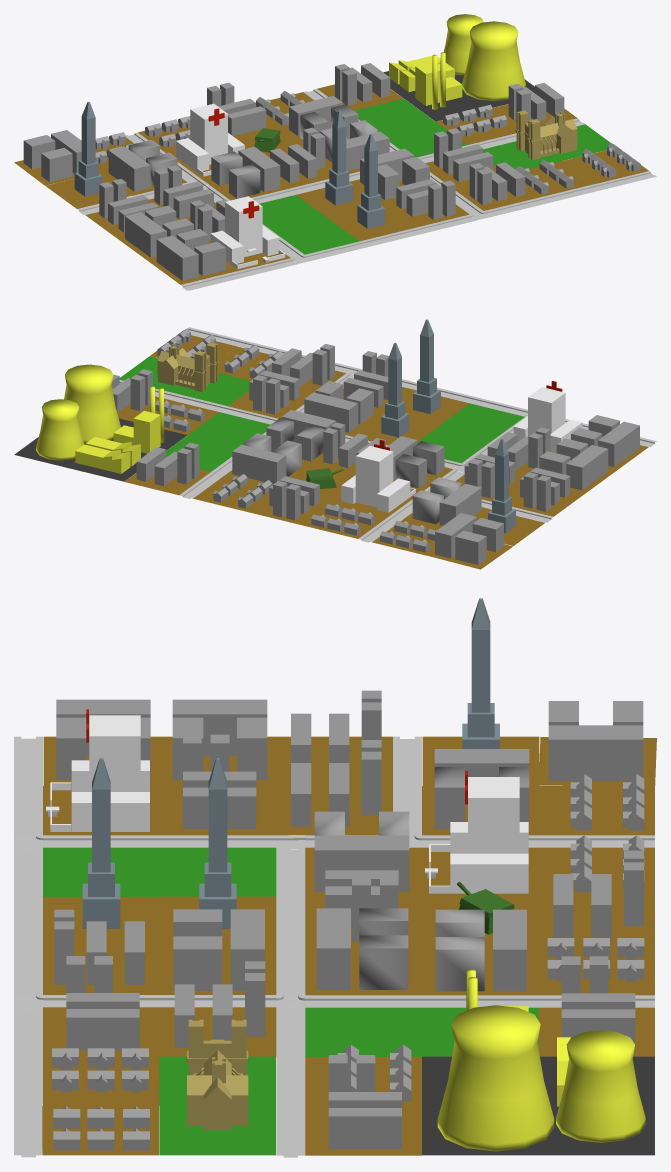
File: nivel2.fbx
3 renders of one model, top to bottom at view 1: azimuth 30°, elevation 25°; view 2: azimuth 150°, elevation 25°; view 3: azimuth 270°, elevation 25°, orthographic. The views are drawn at different scales.
Parts seen in each view (by area): view 1: Plane.041, Plane.044, Cube.001_Cube.000, Plane.039, Plane.020, Plane.009, Cube.001_Cube.002, Plane.033, Cube_Cube.002, Plane.059, Cube_Cube.003, Plane.022 (+30 smaller); view 2: Plane.041, Plane.044, Cube.001_Cube.002, Plane.059, Plane.039, Plane.024, Plane.033, Plane.032, Plane, Cube_Cube.002, Plane.021, Cube_Cube.003 (+28 smaller); view 3: Plane.041, Plane.044, Cube.001_Cube.002, Cube.001_Cube.000, Plane.043, Plane.039, Plane.024, Plane.034, Plane.059, Plane.023, Plane.046, Plane.033 (+43 smaller).
Boxes of the visible parts, x1,y1,x2,y2 form: Plane.041: (383, 14, 534, 121); Plane.044: (483, 110, 610, 168); Cube.001_Cube.000: (210, 196, 290, 271); Plane.039: (259, 195, 359, 254); Plane.020: (149, 229, 235, 284); Plane.009: (201, 146, 287, 200); Cube.001_Cube.002: (173, 103, 244, 178); Plane.033: (354, 98, 466, 157); Cube_Cube.002: (328, 134, 413, 241); Plane.059: (14, 130, 99, 185); Cube_Cube.003: (296, 110, 382, 217); Plane.022: (383, 179, 469, 227); Plane.041: (14, 364, 187, 481); Plane.044: (119, 342, 250, 406); Cube.001_Cube.002: (335, 439, 417, 515); Plane.059: (426, 513, 512, 569); Plane.039: (417, 403, 524, 463); Plane.024: (225, 433, 311, 485); Plane.033: (166, 412, 270, 471); Plane.032: (124, 442, 210, 495); Plane: (404, 477, 489, 527); Cube_Cube.002: (384, 319, 469, 426); Plane.021: (539, 438, 616, 493); Cube_Cube.003: (352, 342, 438, 445); Plane.041: (422, 969, 654, 1155); Plane.044: (159, 1019, 275, 1155); Cube.001_Cube.002: (422, 771, 538, 896); Cube.001_Cube.000: (43, 709, 159, 835); Plane.043: (305, 908, 421, 995); Plane.039: (43, 847, 276, 896); Plane.024: (422, 909, 538, 995); Plane.034: (305, 1055, 421, 1155); Plane.059: (538, 701, 656, 786); Plane.023: (159, 909, 276, 994); Plane.046: (43, 956, 159, 1056); Plane.033: (305, 1007, 538, 1056).
Size of the model in its own units: 3400 by 628 by 2206.
